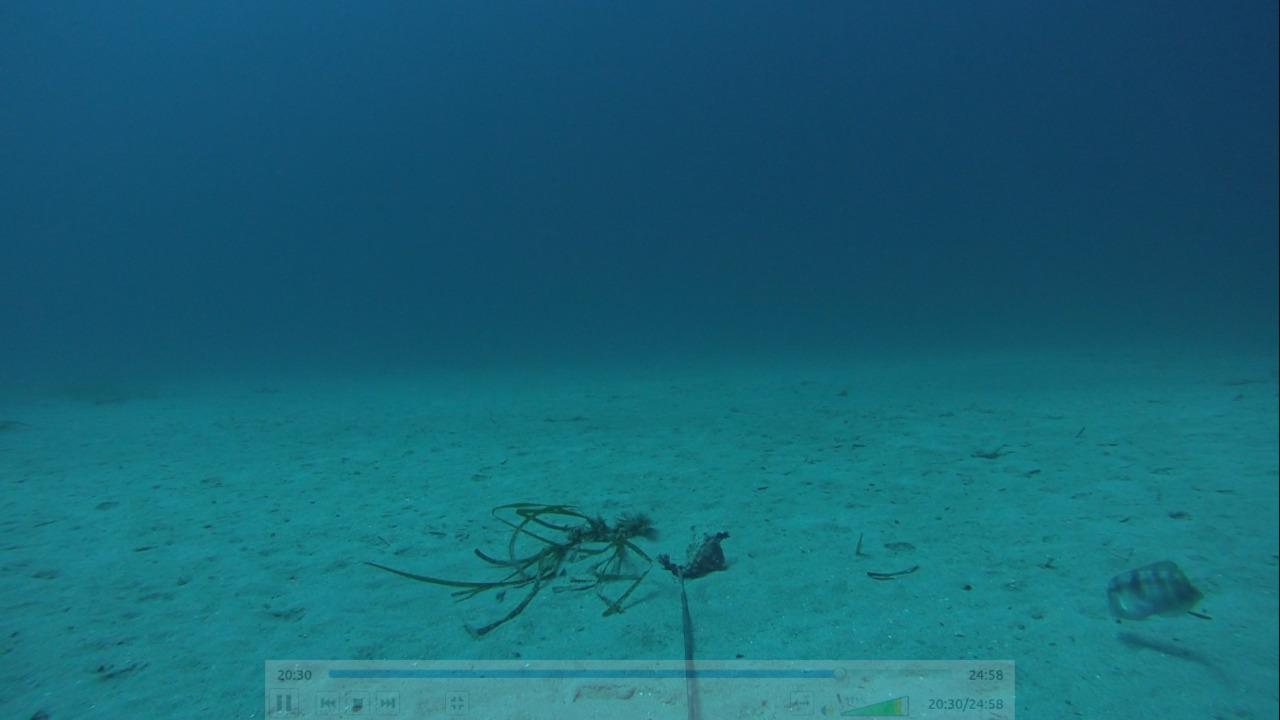raor: (1099, 555, 1207, 628)
